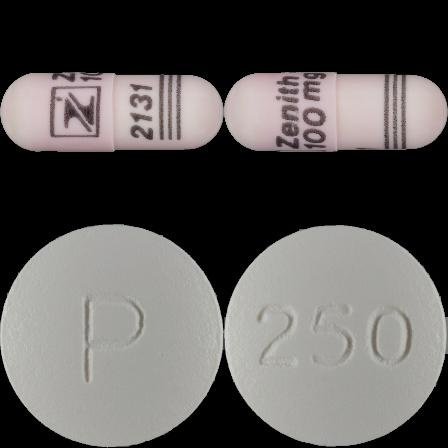10544-601: (0, 0, 224, 224)
